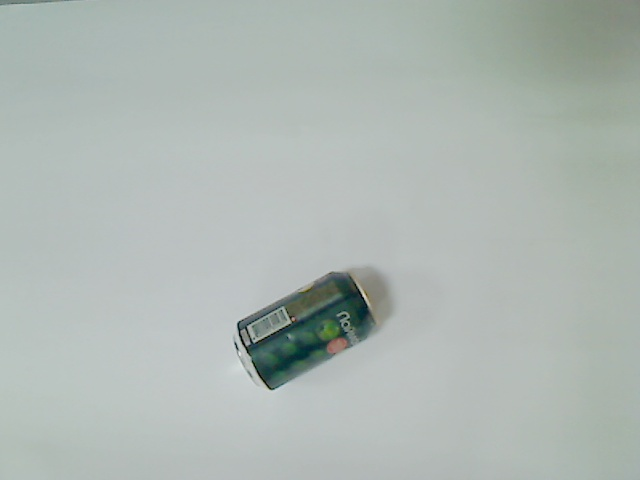can: (230, 267, 380, 395)
